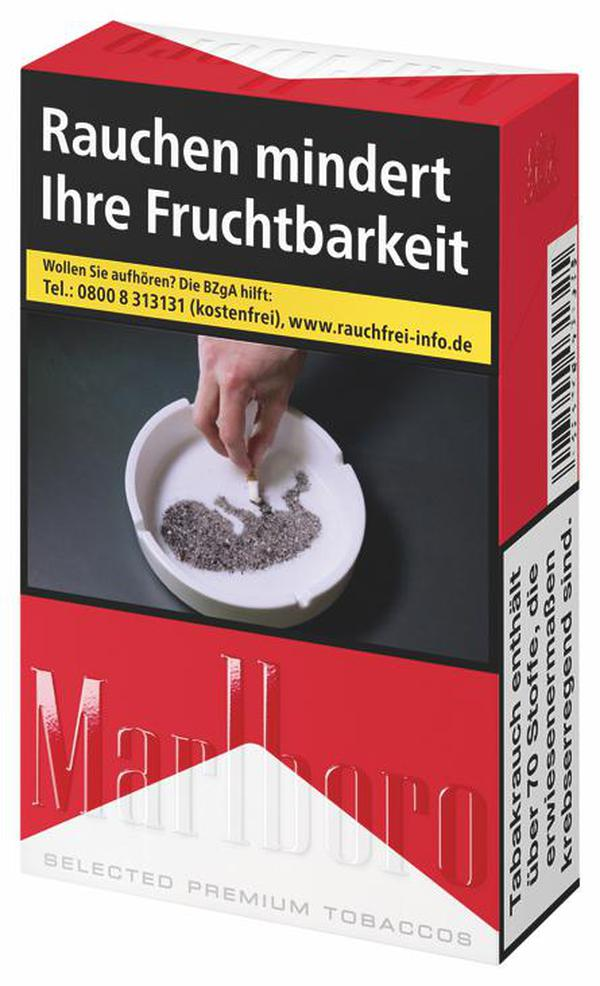marlboro_red: (17, 130, 495, 899)
